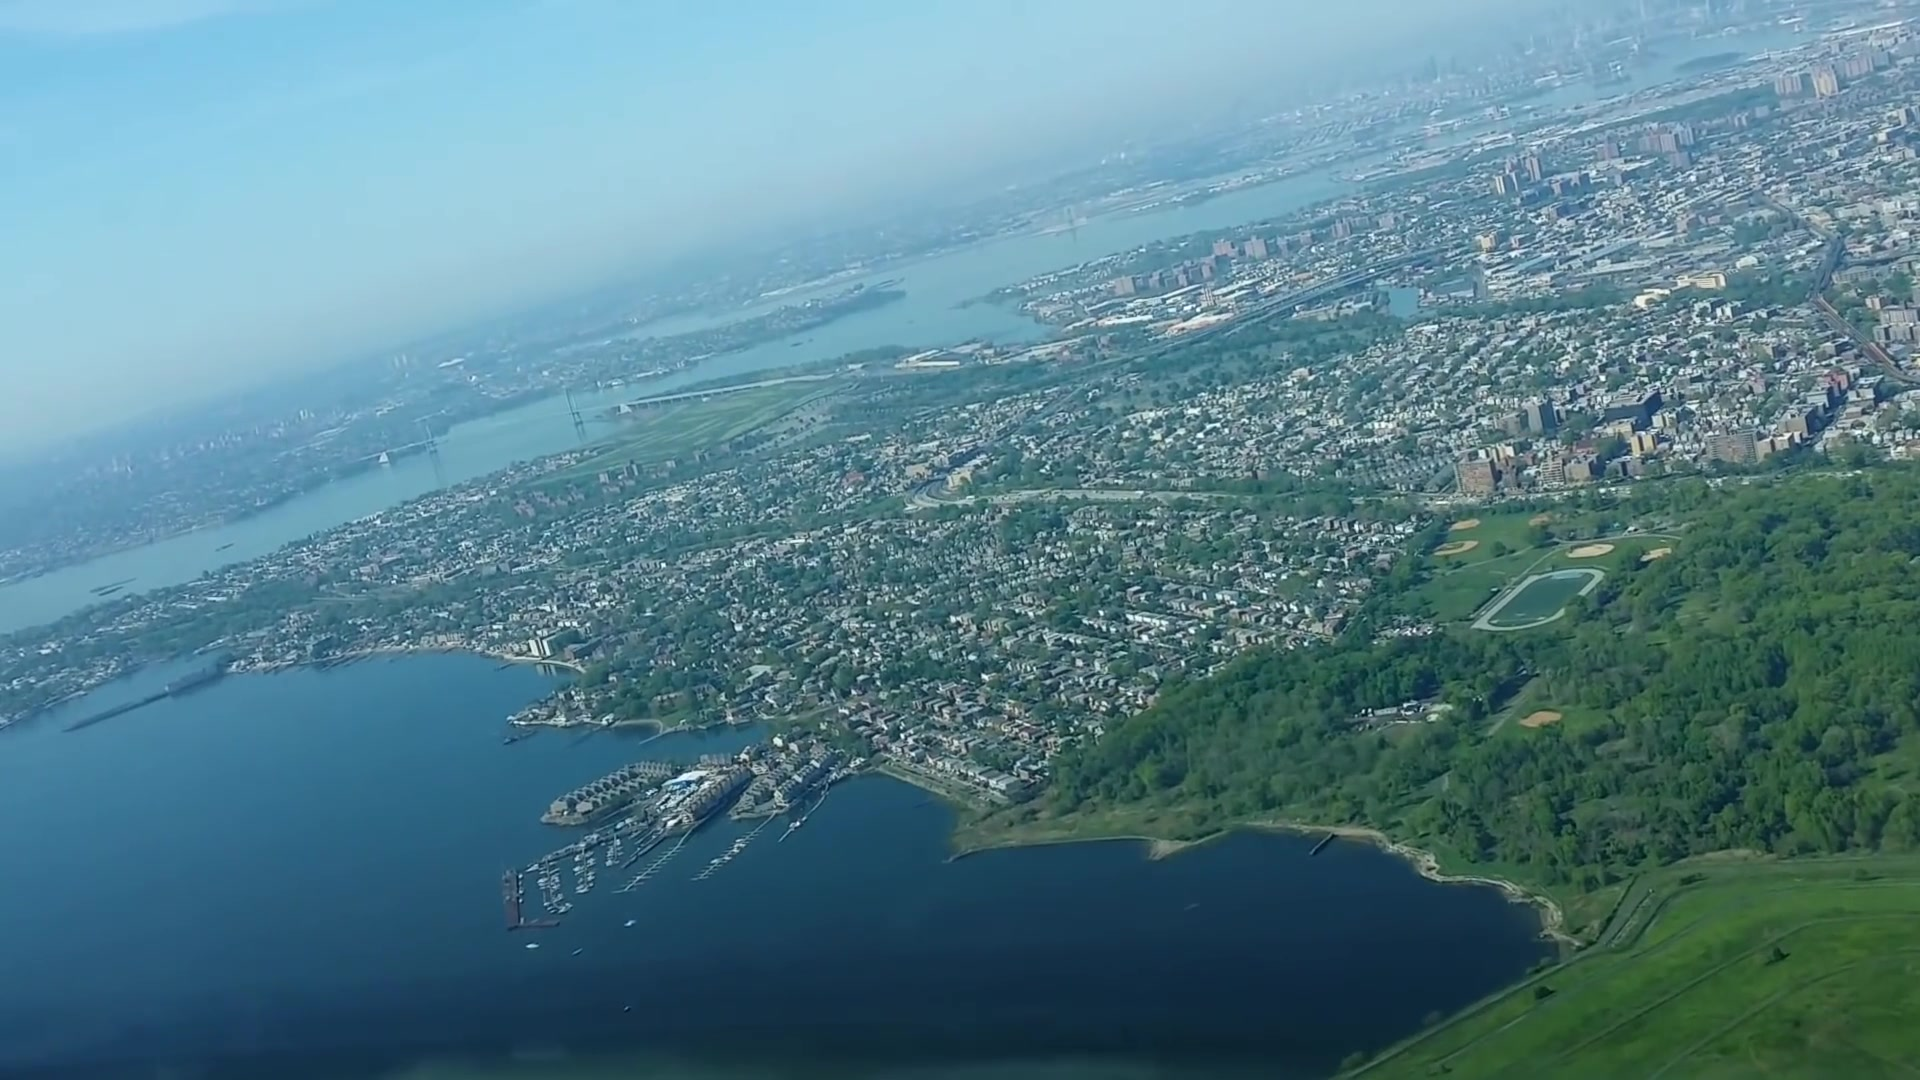runway: (1059, 203, 1083, 229)
